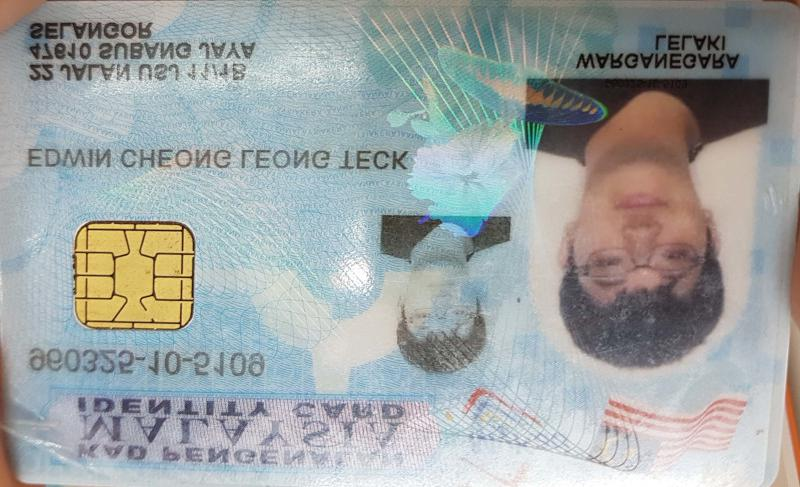hologramB: (406, 6, 522, 213)
